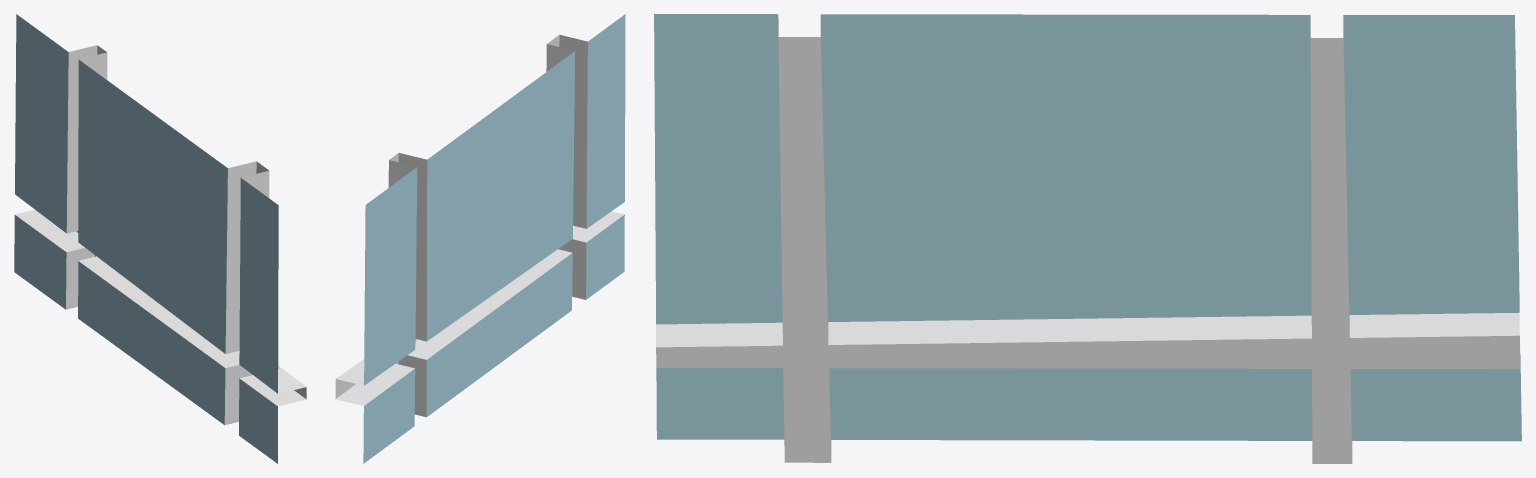
File: ventana con barrotes.obj
The picture shows the model from 3 angles, left to right: view 1: azimuth 30°, elevation 25°; view 2: azimuth 150°, elevation 25°; view 3: azimuth 270°, elevation 25°; orthographic projection. The views are drawn at different scales.
Parts seen in each view (by area): view 1: polySurface19 polySurface18 polySurface14 group46_pasted__group6; view 2: polySurface19 polySurface18 polySurface14 group46_pasted__group6; view 3: polySurface19 polySurface18 polySurface14 group46_pasted__group6.
Part boxes in pixels (bbox=[...]): polySurface19 polySurface18 polySurface14 group46_pasted__group6: bbox=[14, 14, 306, 463]; polySurface19 polySurface18 polySurface14 group46_pasted__group6: bbox=[335, 14, 625, 463]; polySurface19 polySurface18 polySurface14 group46_pasted__group6: bbox=[654, 14, 1521, 463].
Size of the model in its own units: 0.4829 by 4.2 by 7.72.
